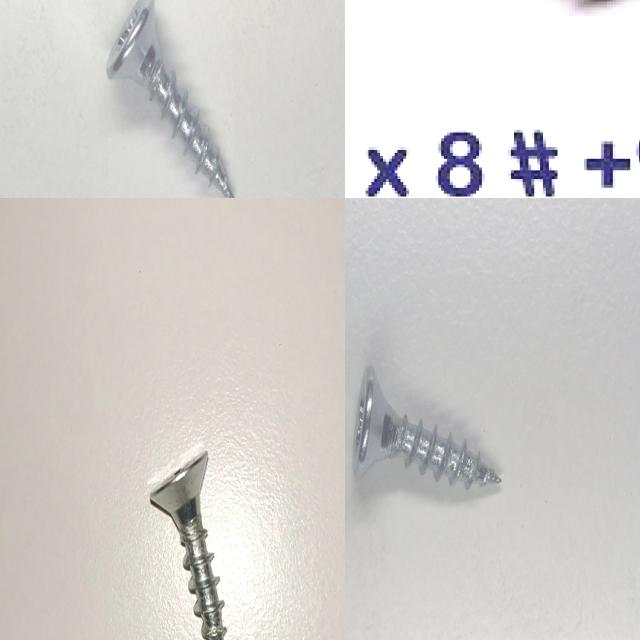Screw: (106, 0, 234, 198), (351, 362, 503, 492), (150, 451, 227, 640)
